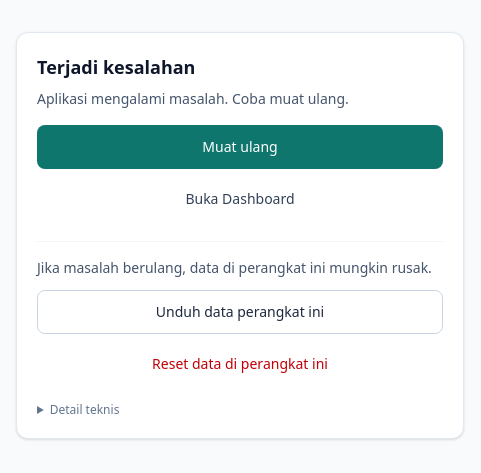
Test: AppErrorBoundary › downloads the raw device data, even when it is not valid JSON
Click the button "Unduh data perangkat ini".
click(240, 312)  # box [37,290,443,334]
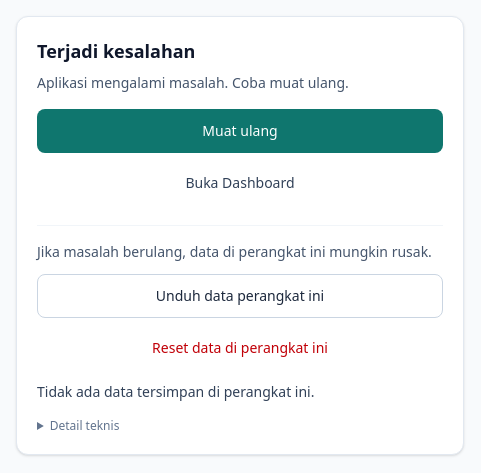
Result: the text "Tidak ada data tersimpan di perangkat ini." is shown at [37,382,314,400]
Click the button "Unduh data perangkat ini".
click(240, 296)  # box [37,274,443,318]
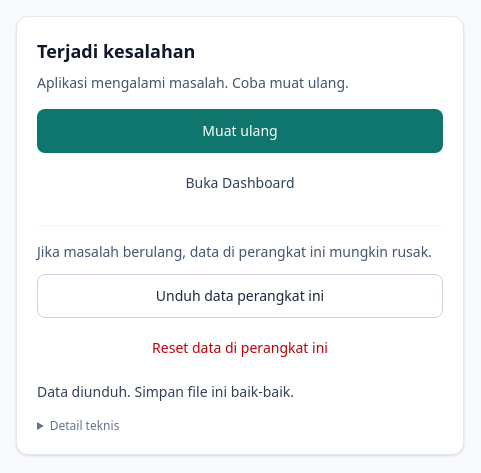
Result: the text "Data diunduh. Simpan file ini baik-baik." is shown at [37,382,294,400]
